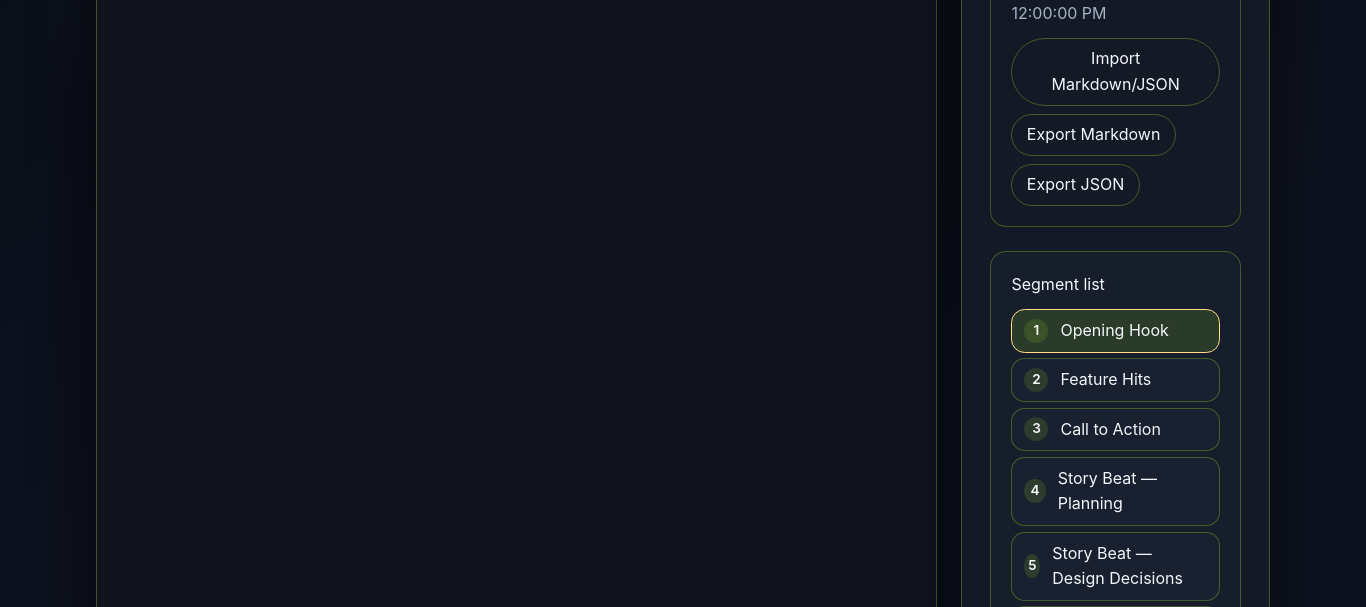
Test: App › allows segment jumping via the navigator buttons
The image size is (1366, 607).
(page scrolled)
What coordinates should you click on to do the following:
click the button "2 Feature Hits"
I would click on:
 (1116, 380)
Its box is top-left (1012, 358), bottom-right (1220, 402).
(page scrolled)
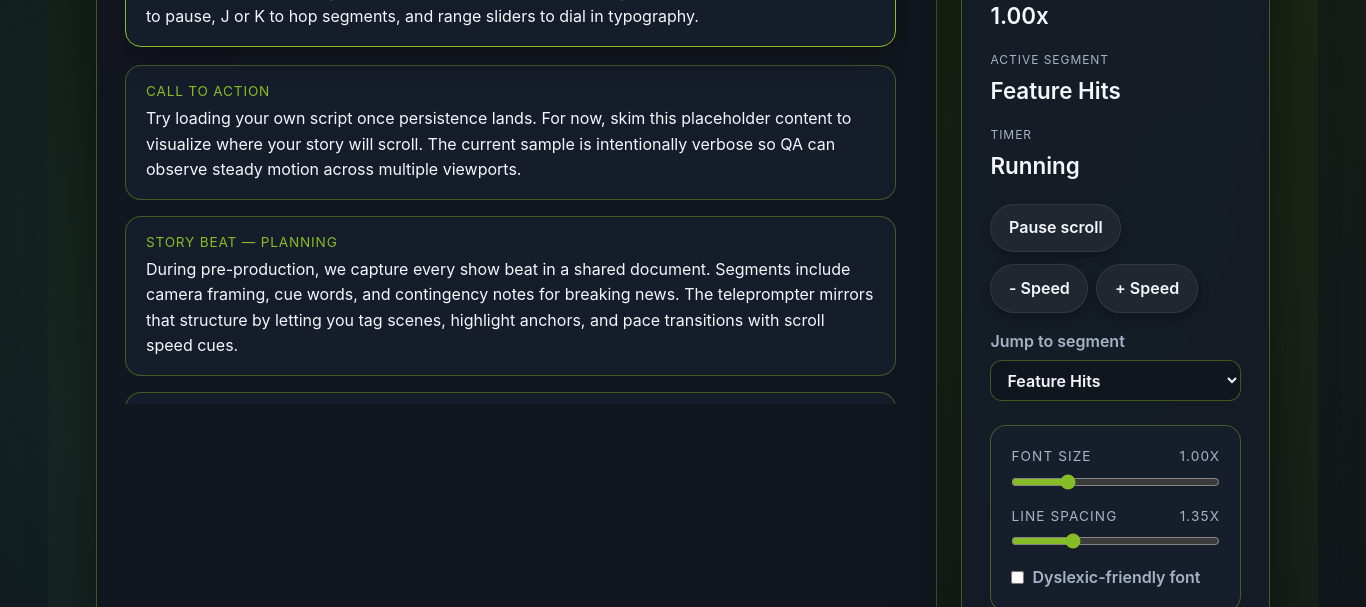
Expected: the dropdown labelled "Jump to segment" shows "Feature Hits", top-left (990, 360), bottom-right (1241, 401)
